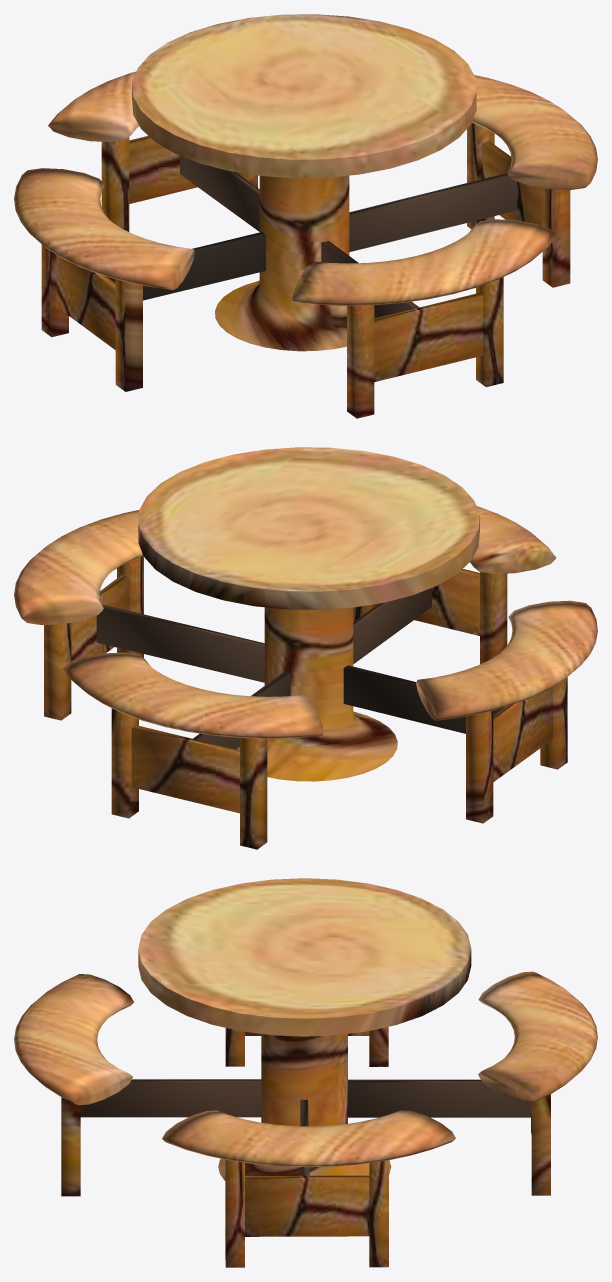
The model's file is TableSet4.fbx.
The picture shows the model from 3 angles, top to bottom: view 1: azimuth 30°, elevation 25°; view 2: azimuth 150°, elevation 25°; view 3: azimuth 270°, elevation 25°; orthographic projection. The views are drawn at different scales.
Parts seen in each view (by area): view 1: Cylinder, Cylinder.001, Cube.001, Cube.010, Cube.009, Cube.011, Cube.003, Cube.008, Cube.004, Cube.002, Cube.012, Cube.006 (+2 smaller); view 2: Cylinder, Cylinder.001, Cube.002, Cube.012, Cube.009, Cube.011, Cube.003, Cube.008, Cube.004, Cube.001, Cube.006, Cube.010 (+2 smaller); view 3: Cylinder, Cube.004, Cube.011, Cube.010, Cube.012, Cylinder.001, Cube.007, Cube.005, Cube.002, Cube.001, Cube.003.
Part boxes in pixels (bbox=[...]): Cylinder: bbox=[132, 14, 476, 178]; Cylinder.001: bbox=[215, 175, 375, 351]; Cube.001: bbox=[347, 277, 503, 418]; Cube.010: bbox=[292, 219, 556, 305]; Cube.009: bbox=[14, 168, 194, 290]; Cube.011: bbox=[472, 75, 597, 190]; Cube.003: bbox=[41, 244, 142, 391]; Cube.008: bbox=[349, 173, 517, 251]; Cube.004: bbox=[467, 123, 570, 287]; Cube.002: bbox=[101, 136, 257, 231]; Cube.012: bbox=[48, 71, 138, 141]; Cube.006: bbox=[107, 232, 265, 300]; Cylinder: bbox=[138, 447, 479, 609]; Cylinder.001: bbox=[236, 607, 397, 781]; Cube.002: bbox=[111, 708, 267, 849]; Cube.012: bbox=[62, 652, 323, 738]; Cube.009: bbox=[416, 600, 597, 720]; Cube.011: bbox=[14, 510, 143, 625]; Cube.003: bbox=[466, 677, 567, 823]; Cube.008: bbox=[96, 604, 264, 682]; Cube.004: bbox=[44, 556, 143, 720]; Cube.001: bbox=[353, 569, 507, 664]; Cube.006: bbox=[343, 665, 504, 733]; Cube.010: bbox=[470, 506, 556, 573]; Cylinder: bbox=[138, 878, 471, 1036]; Cube.004: bbox=[225, 1159, 388, 1267]; Cube.011: bbox=[162, 1110, 455, 1167]; Cube.010: bbox=[14, 974, 134, 1105]; Cube.012: bbox=[478, 971, 597, 1102]; Cylinder.001: bbox=[218, 1034, 391, 1180]; Cube.007: bbox=[347, 1079, 531, 1117]; Cube.005: bbox=[80, 1079, 261, 1117]; Cube.002: bbox=[531, 1094, 550, 1195]; Cube.001: bbox=[61, 1097, 80, 1196]; Cube.003: bbox=[225, 1027, 388, 1066].
Bounding box in the file's own units: 255 × 104 × 253.
Materials: 14 (10 with a texture image).
